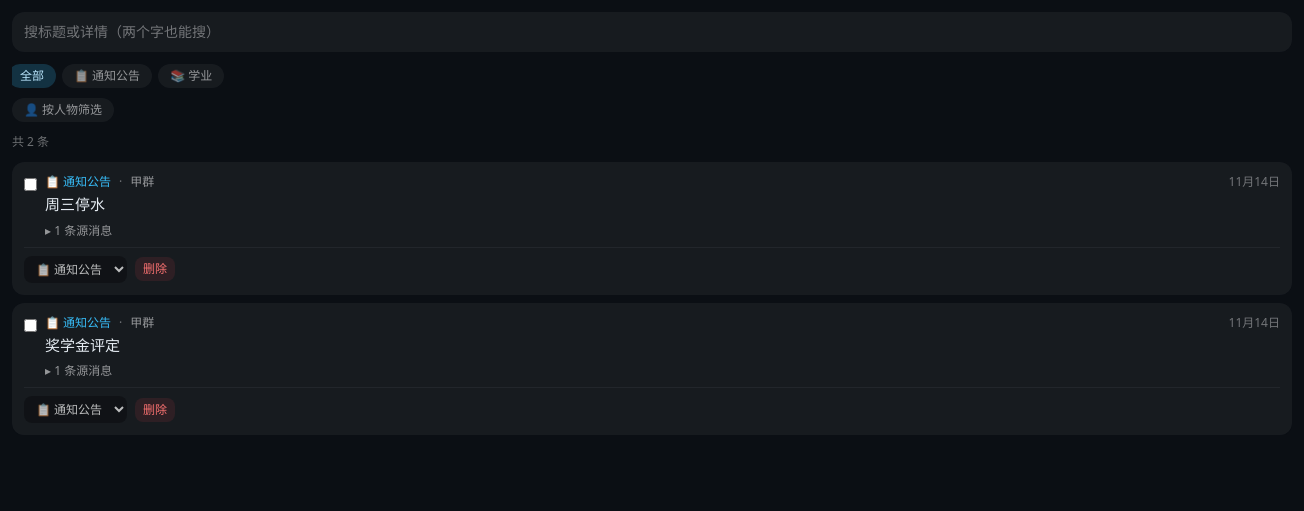
「清空选择」必须真的清空（不是空转的摆设）
Check: the text "周三停水" is shown, box x1=45 y1=194 x2=105 y2=214
Step 1. Click the checkbox named "选择 周三停水" → (30, 184), box x1=24 y1=178 x2=37 y2=191
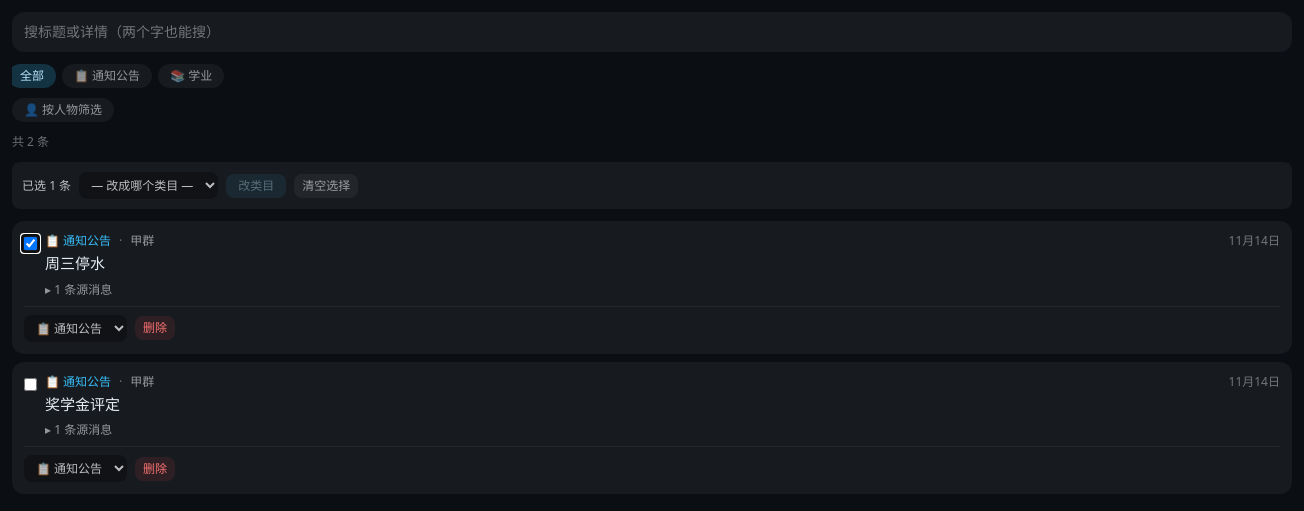
Step 2. Click the checkbox named "选择 奖学金评定" → (30, 384), box x1=24 y1=378 x2=37 y2=391
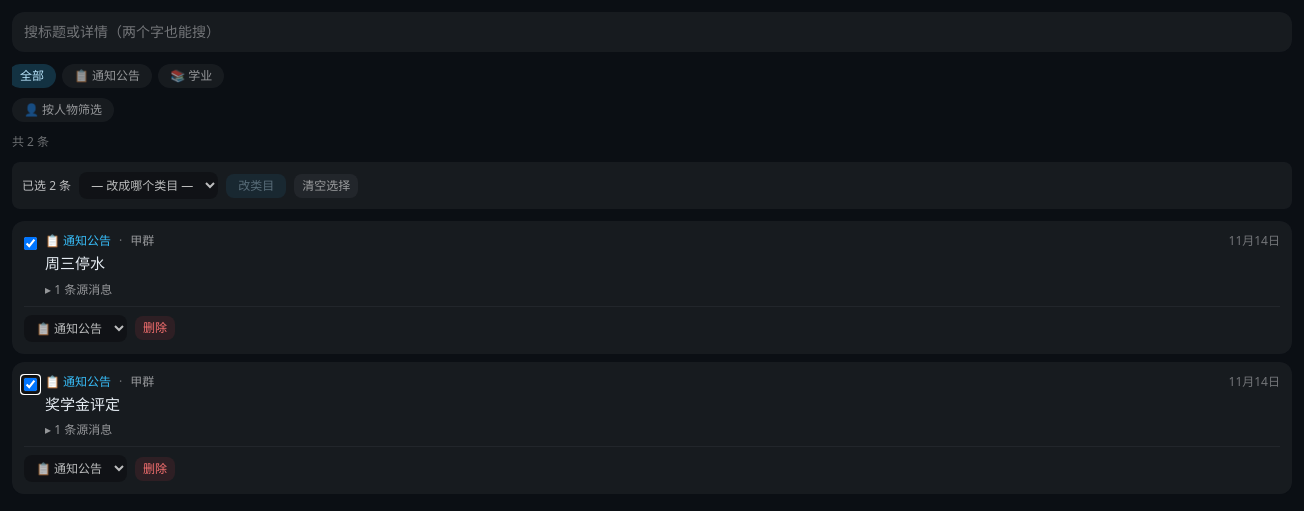
Check: the text "已选 2 条" is shown, box x1=22 y1=178 x2=71 y2=194
Step 3. Click the button "清空选择" → (326, 186), box x1=294 y1=174 x2=358 y2=198
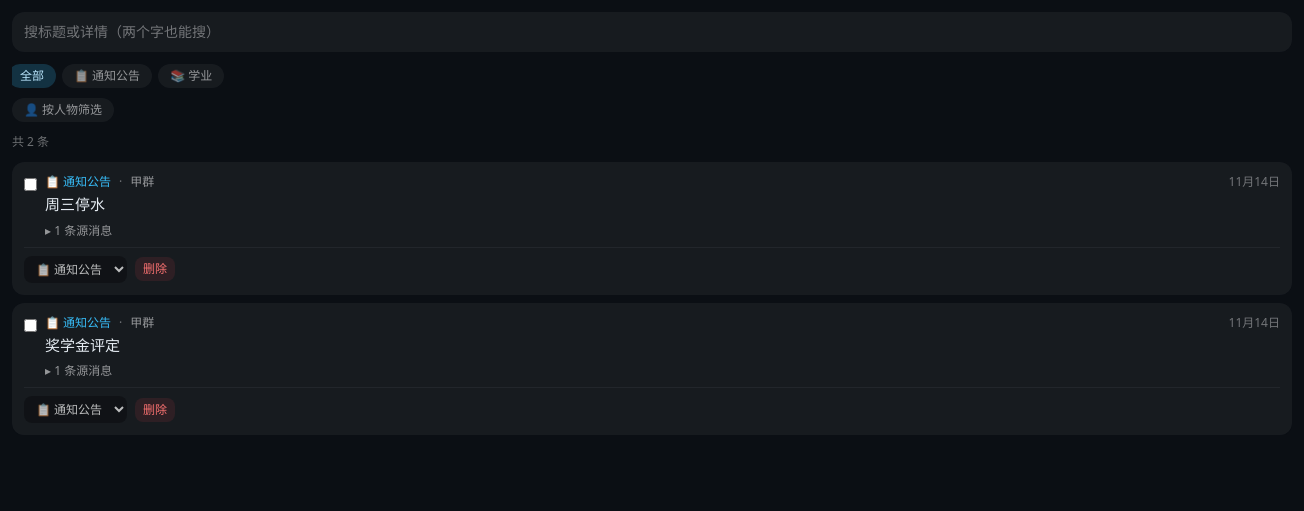
Check: the checkbox named "选择 周三停水" is not checked, box x1=24 y1=178 x2=37 y2=191
Check: the checkbox named "选择 奖学金评定" is not checked, box x1=24 y1=319 x2=37 y2=332
Check: the dropdown labelled "批量改成的类目" is gone
